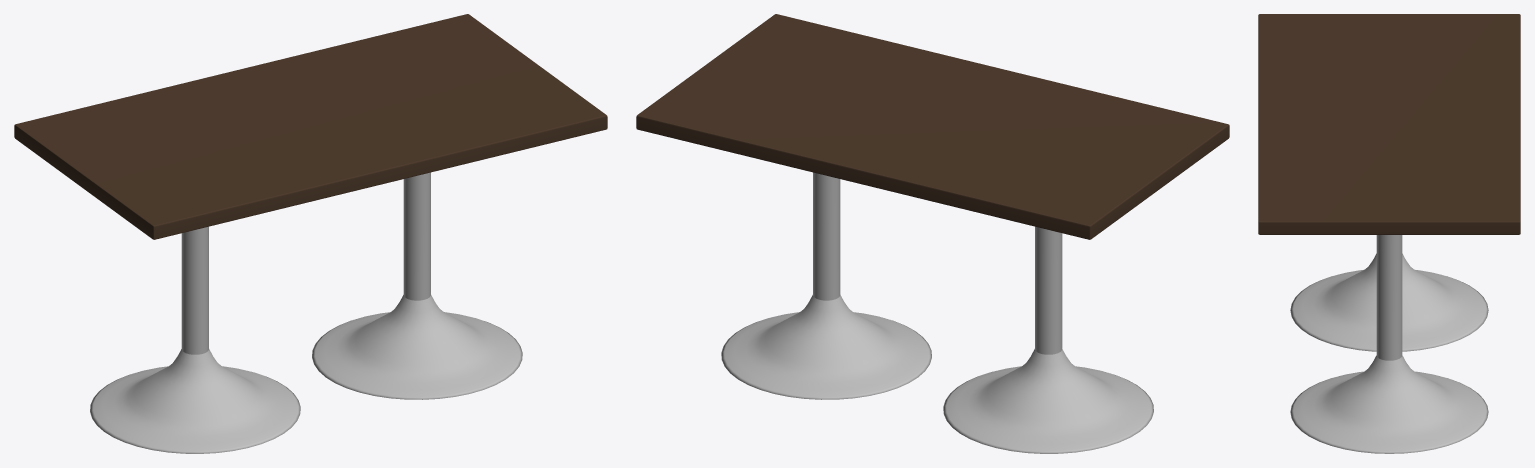
The model's file is basic table 2.fbx.
The picture shows the model from 3 angles, left to right: view 1: azimuth 30°, elevation 25°; view 2: azimuth 150°, elevation 25°; view 3: azimuth 270°, elevation 25°; orthographic projection. The views are drawn at different scales.
Visible parts, largest first — view 1: polySurface139; view 2: polySurface139; view 3: polySurface139.
Boxes of the visible parts, x1,y1,x2,y2 form: polySurface139: (14,14,607,453); polySurface139: (636,14,1229,453); polySurface139: (1258,14,1520,453).
Bounding box in the file's own units: 4.1 × 2.27 × 2.18.
